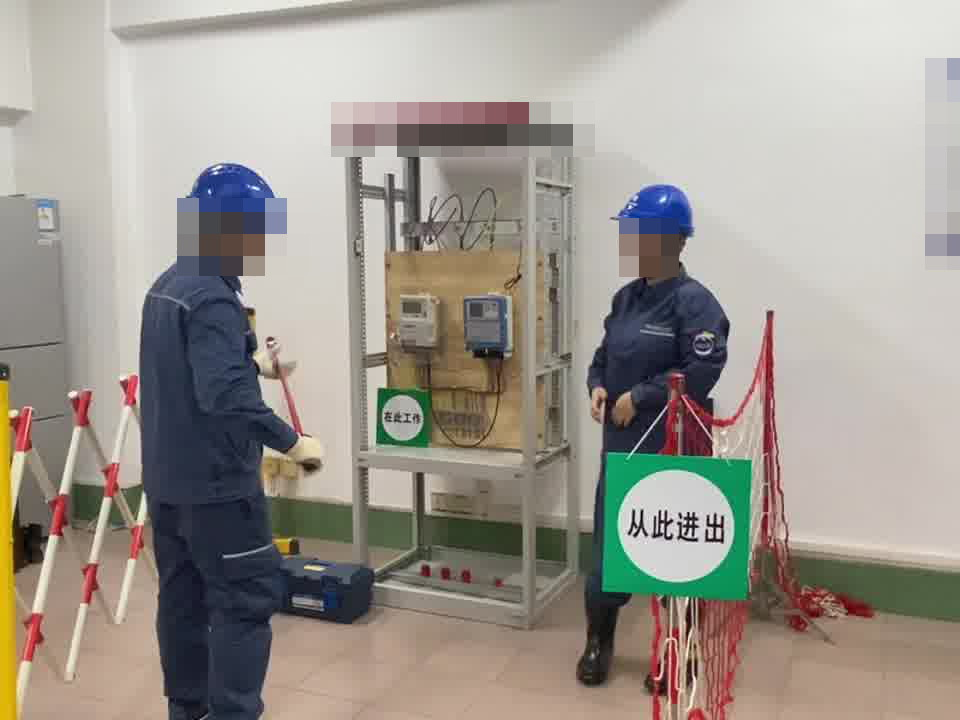downsuit: (151, 511, 280, 720)
halt: (182, 162, 285, 270), (616, 183, 697, 276)
hand: (585, 387, 612, 424), (614, 388, 638, 429)
inear: (205, 214, 254, 259), (647, 227, 687, 270)
intosign: (600, 448, 753, 601)
person: (130, 159, 324, 720), (571, 180, 732, 696)
shoe: (572, 587, 623, 687)
sleeve: (690, 327, 717, 357)
testrod: (263, 335, 306, 438)
upsuit: (140, 259, 302, 504), (588, 272, 734, 411)
wglove: (250, 341, 299, 378), (290, 434, 325, 476)
worksign: (374, 385, 434, 451)
